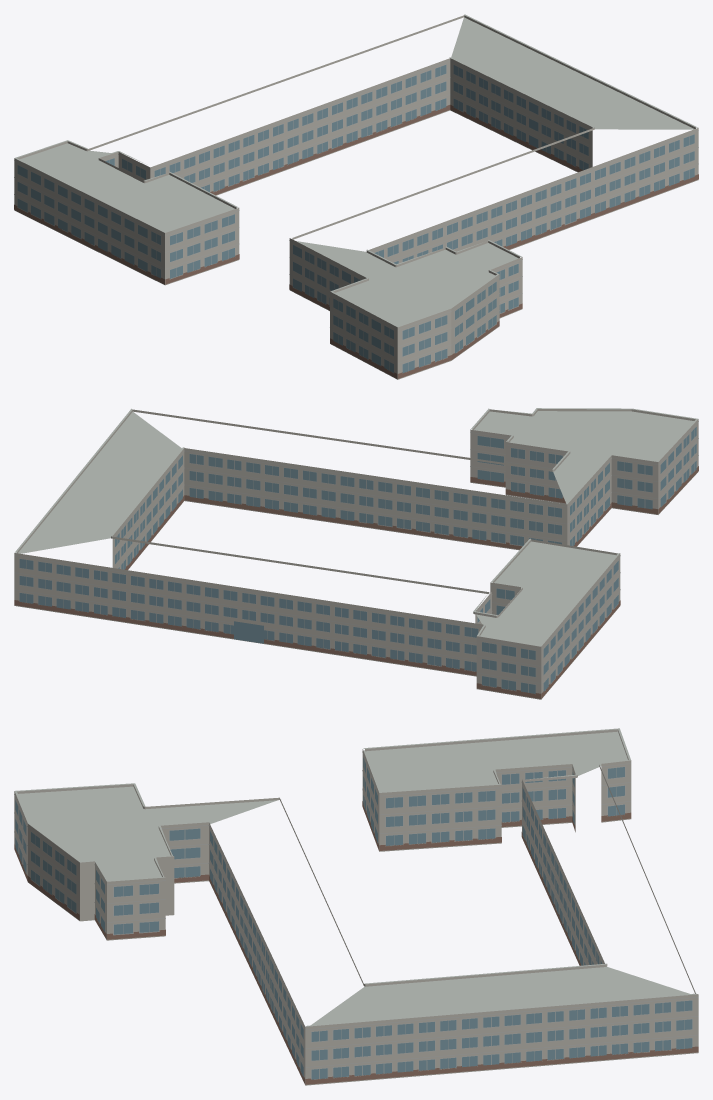
The model's file is public-812224b5-2c78-40e9-b09d-bb9589f30e03.glb.
3 views of the same model, one above another, from view 1: azimuth 30°, elevation 25°; view 2: azimuth 150°, elevation 25°; view 3: azimuth 270°, elevation 25° (orthographic). The views are drawn at different scales.
Visible parts, largest first — view 1: public-812224b5-2c78-40e9-b09d-bb9589f30e03; view 2: public-812224b5-2c78-40e9-b09d-bb9589f30e03; view 3: public-812224b5-2c78-40e9-b09d-bb9589f30e03.
Part boxes in pixels (box(x1,y1,x2,y2)): public-812224b5-2c78-40e9-b09d-bb9589f30e03: box(14, 14, 698, 379); public-812224b5-2c78-40e9-b09d-bb9589f30e03: box(14, 408, 698, 699); public-812224b5-2c78-40e9-b09d-bb9589f30e03: box(14, 728, 698, 1085).
Size of the model in its own units: 99.64 by 9.15 by 96.52.
